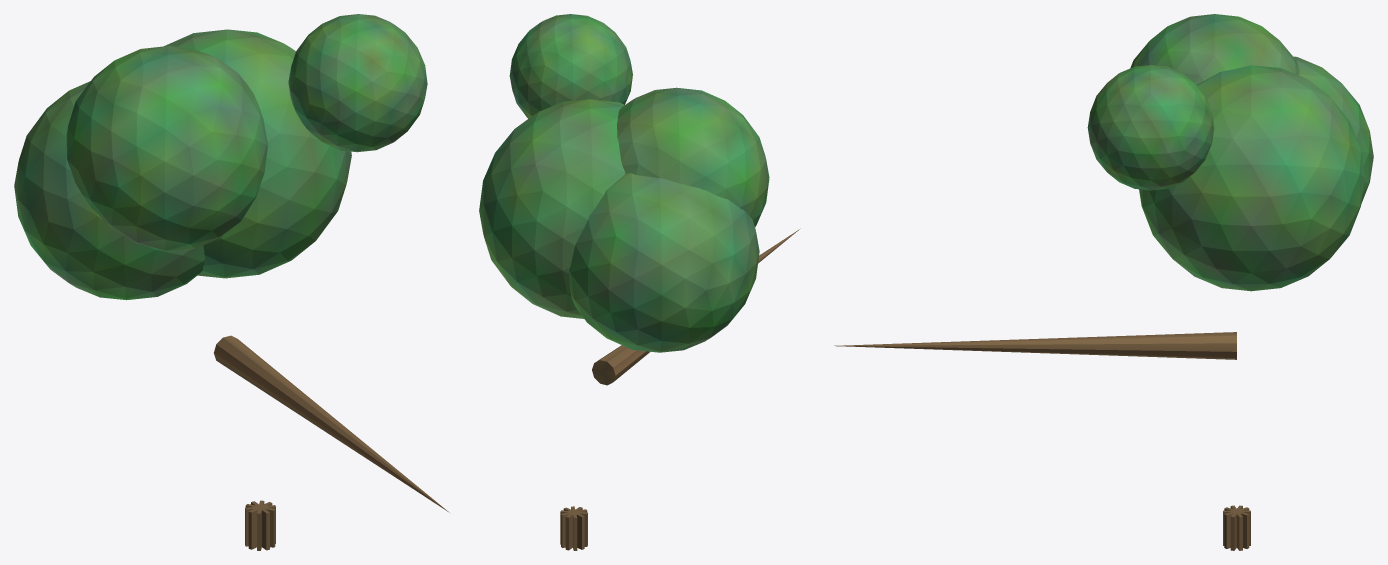
File: tree_0.glb
3 renders of one model, left to right at view 1: azimuth 30°, elevation 25°; view 2: azimuth 150°, elevation 25°; view 3: azimuth 270°, elevation 25°, orthographic. The views are drawn at different scales.
Parts seen in each view (by area): view 1: world; view 2: world; view 3: world.
Boxes of the visible parts, box(x1,y1,x2,y2) form: world: box(14, 14, 449, 550); world: box(479, 14, 800, 550); world: box(834, 14, 1373, 550).
Bounding box in the file's own units: 5.46 × 8.83 × 8.75.
